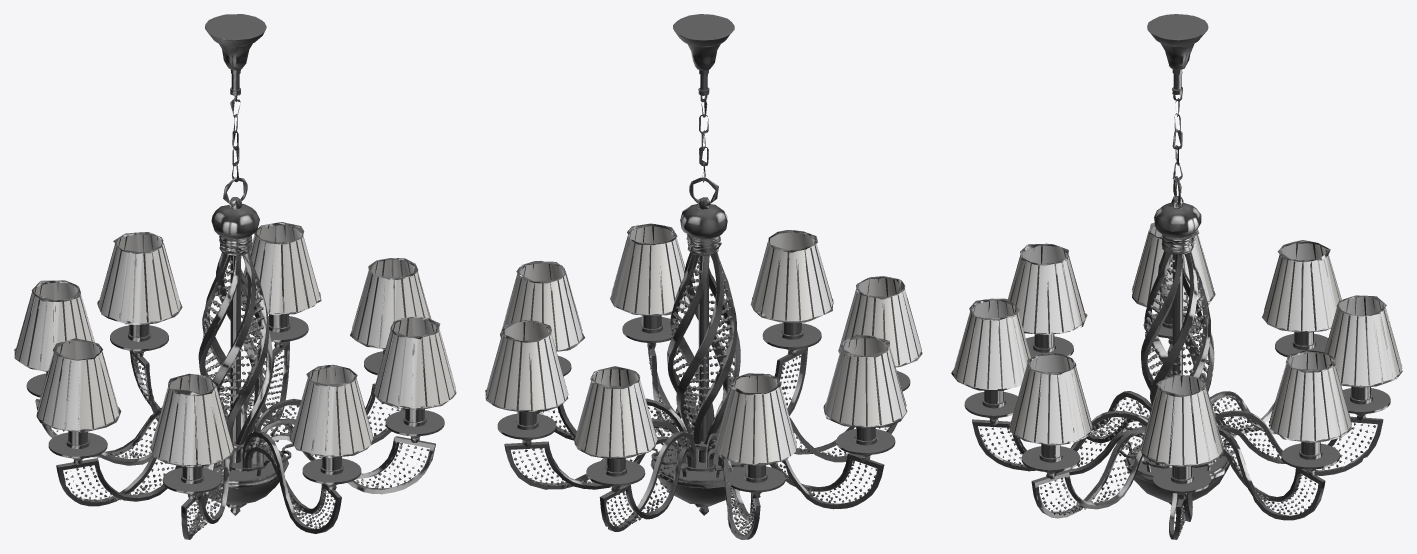
3 views of the same model, side by side, from view 1: azimuth 30°, elevation 25°; view 2: azimuth 150°, elevation 25°; view 3: azimuth 270°, elevation 25° (orthographic).
Parts seen in each view (by area): view 1: solid_001, glass_002, glass_001; view 2: solid_001, glass_002, glass_001; view 3: solid_001, glass_002, glass_001.
Part boxes in pixels (x1,y1,x2,y2): solid_001: (14, 14, 456, 539); glass_002: (15, 225, 455, 465); glass_001: (26, 258, 444, 535); solid_001: (485, 14, 922, 539); glass_002: (486, 226, 921, 464); glass_001: (497, 259, 910, 534); solid_001: (951, 14, 1402, 539); glass_002: (953, 226, 1402, 465); glass_001: (964, 257, 1390, 535).
Bounding box in the file's own units: 1.18 × 1.41 × 1.19.
Materials: 1 (1 with a texture image).
